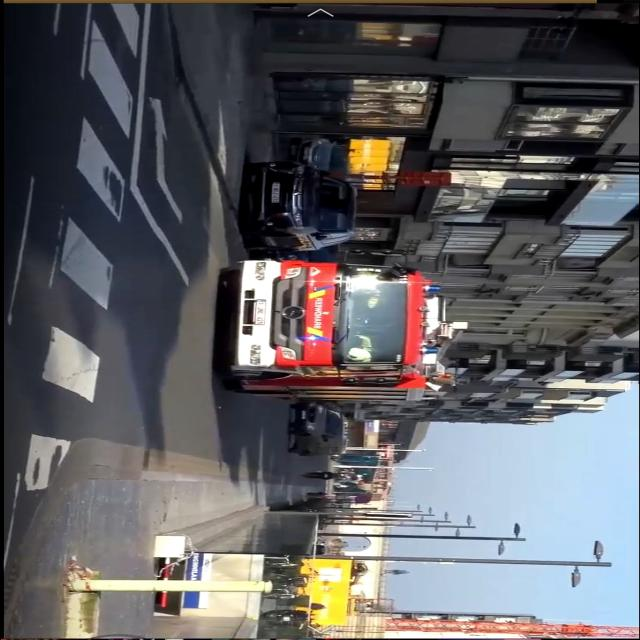emergency: (183, 255, 451, 405)
